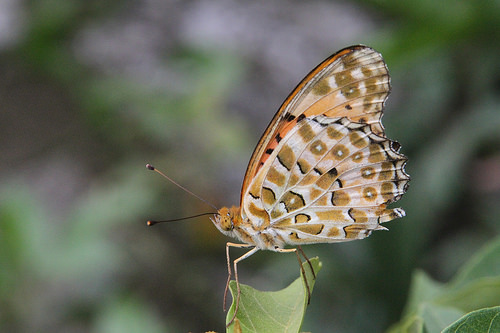Argyreus hyperbius: (142, 41, 417, 306)
butterfly: (144, 43, 419, 308)
